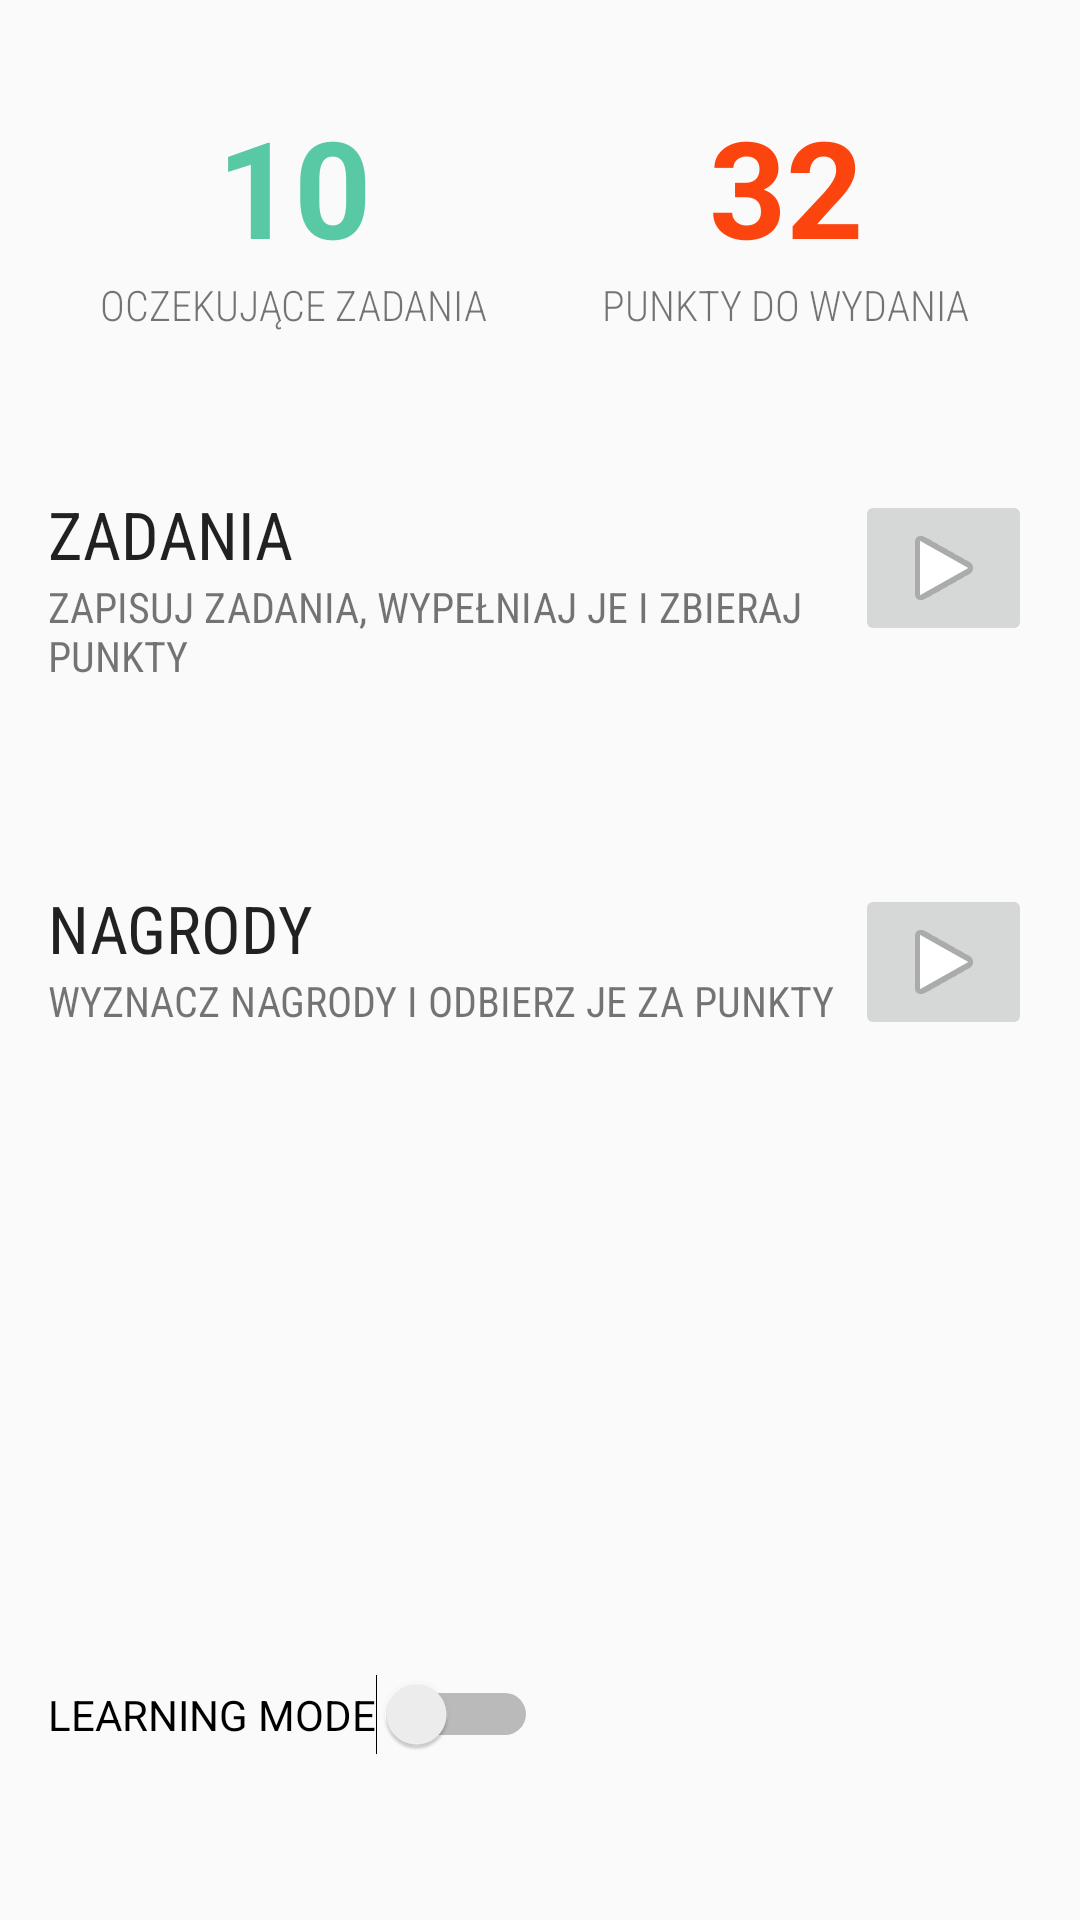

Named icons in this screenshot (1080*1920) and their bounding boxes, (x1, y1, x2, y2):
dalej: (867, 508, 1020, 628), (867, 902, 1020, 1022)
